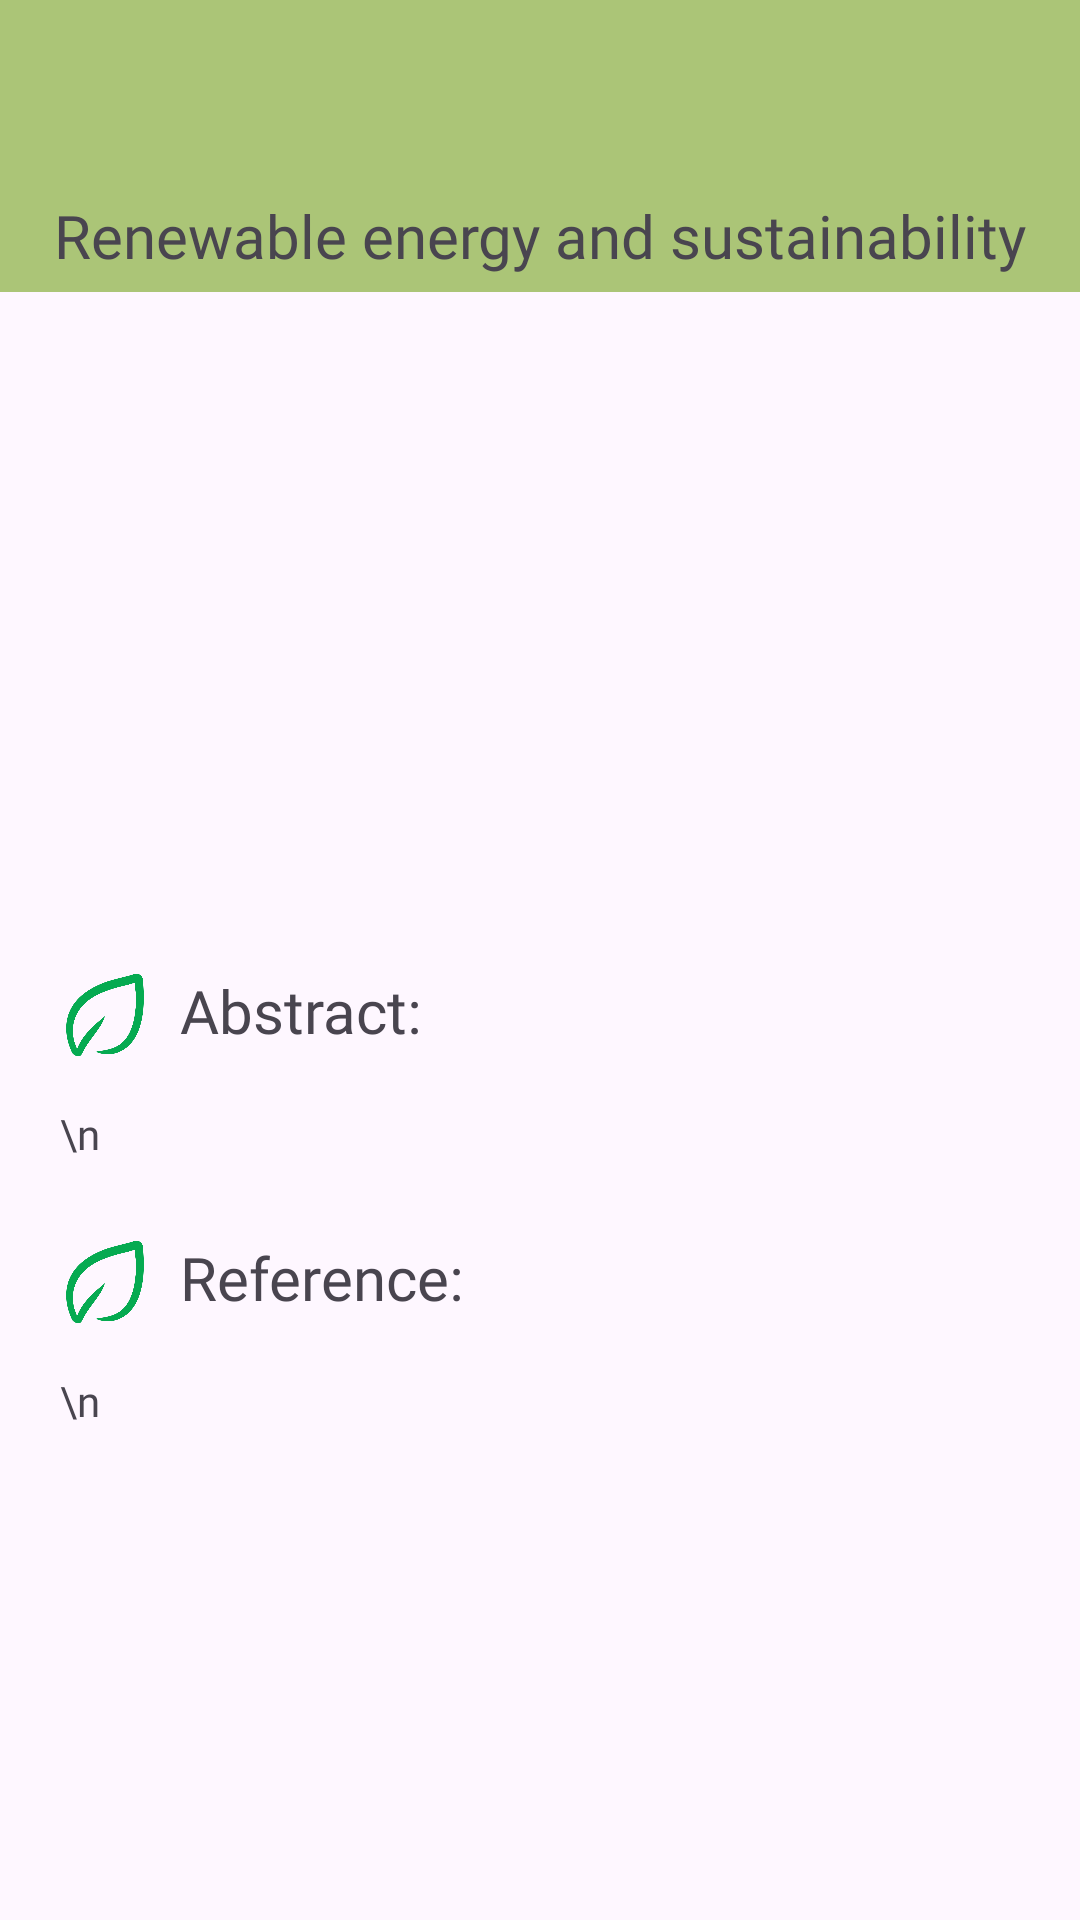

Point at icon controls on the screen. Image size 1080 x 1920, points as (x,y).
leaf: (105,1015), (105,1282)
